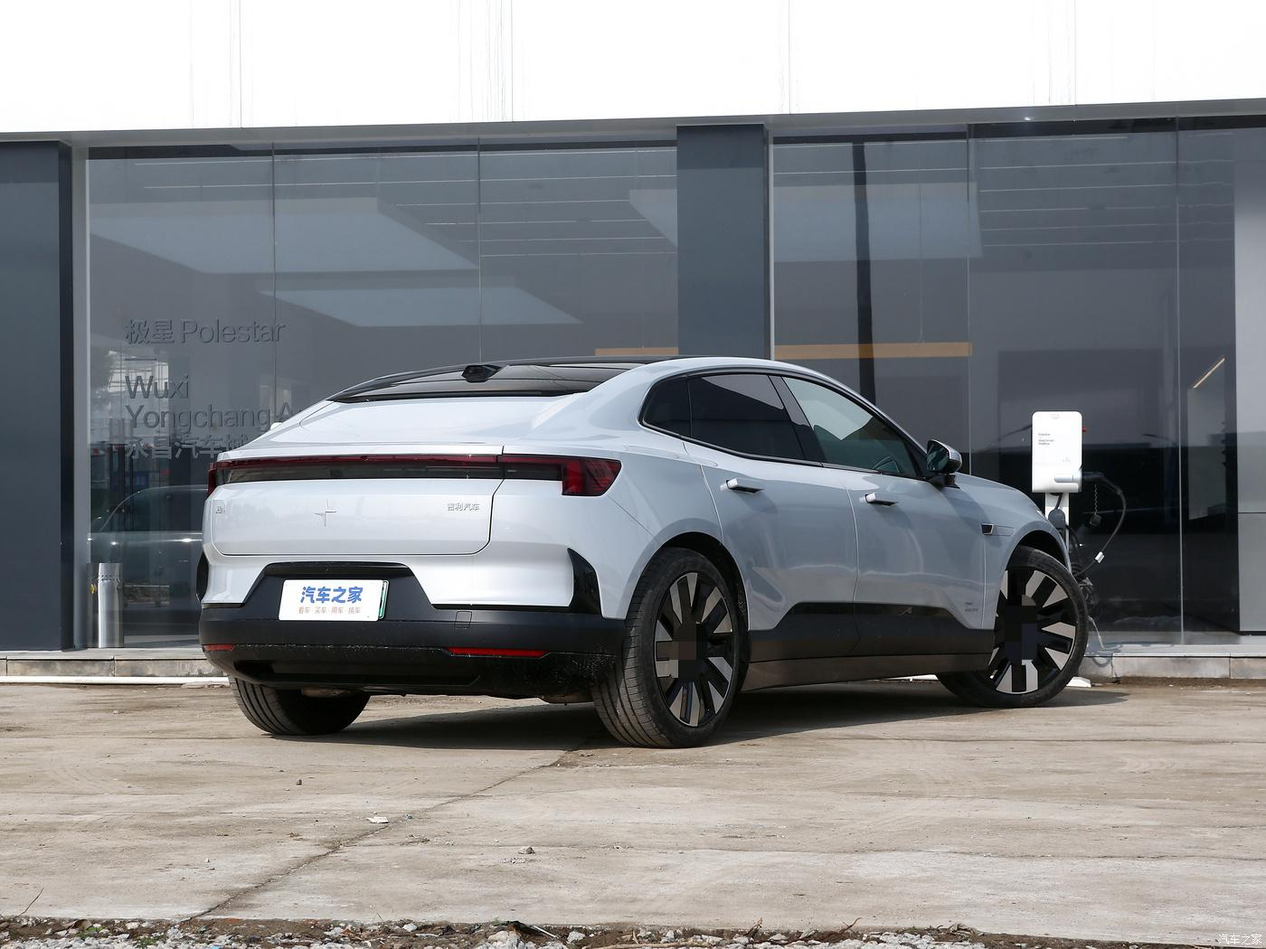Polestar: (315, 499, 336, 528)
